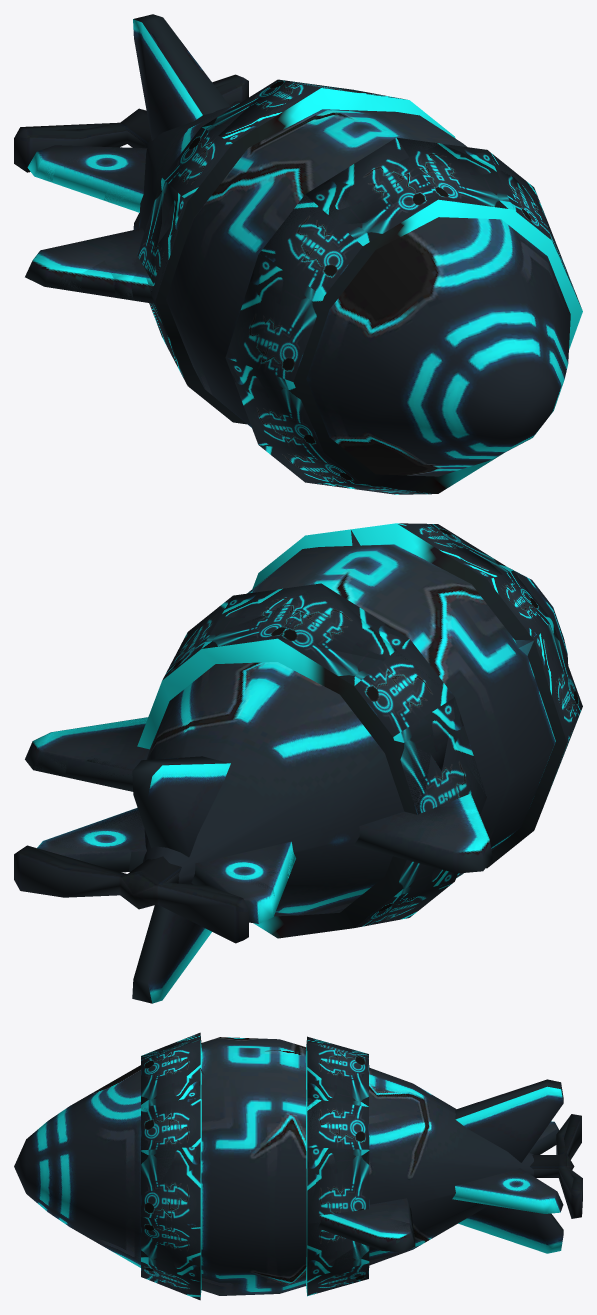
File: DDT.fbx
3 views of the same model, one above another, from view 1: azimuth 30°, elevation 25°; view 2: azimuth 150°, elevation 25°; view 3: azimuth 270°, elevation 25° (orthographic). The views are drawn at different scales.
Parts seen in each view (by area): view 1: Body, Fortification, Fortification4, Fortification2, FinRightDamage, BrokenPropeller, FinRight, Fortification3, Body3, Fortification1, Propeller; view 2: Body, Fortification, Fortification1, Fortification4, FinRight, BrokenPropeller, Fortification2, Fortification3, Propeller, FinRightDamage, Body2, Body3 (+1 smaller); view 3: Body, Fortification, Fortification2, Fortification4, Fortification3, Fortification1, Body1, BrokenPropeller, Propeller, Body2.
Boxes of the visible parts, x1,y1,x2,y2 form: Body: (27, 14, 570, 476); Fortification: (137, 80, 582, 494); Fortification4: (191, 79, 513, 255); Fortification2: (259, 85, 437, 259); FinRightDamage: (41, 228, 154, 302); BrokenPropeller: (14, 74, 248, 172); FinRight: (25, 228, 154, 303); Fortification3: (137, 168, 550, 296); Body3: (35, 145, 145, 212); Fortification1: (204, 87, 581, 307); Propeller: (20, 78, 243, 130); Body: (25, 544, 568, 1003); Fortification: (162, 523, 582, 938); Fortification1: (137, 638, 417, 927); Fortification4: (209, 523, 533, 694); FinRight: (354, 793, 492, 873); BrokenPropeller: (14, 845, 248, 943); Fortification2: (209, 523, 502, 638); Fortification3: (393, 697, 486, 814); Propeller: (28, 845, 242, 943); FinRightDamage: (360, 797, 488, 851); Body2: (45, 808, 146, 871); Body3: (199, 843, 295, 915); Body: (14, 1037, 563, 1295); Fortification: (141, 1036, 369, 1300); Fortification2: (143, 1032, 369, 1277); Fortification4: (141, 1040, 368, 1222); Fortification3: (141, 1100, 367, 1280); Fortification1: (141, 1040, 369, 1222); Body1: (322, 1199, 415, 1244); BrokenPropeller: (530, 1114, 582, 1218); Propeller: (558, 1114, 581, 1218); Body2: (457, 1177, 548, 1199).
Bounding box in the file's own units: 35.34 × 26.31 × 53.46.
Materials: 1 (1 with a texture image).
